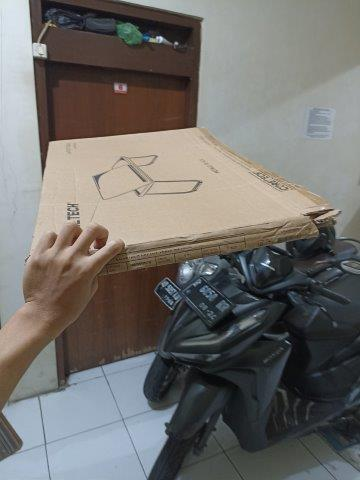kardus: (32, 129, 336, 267)
